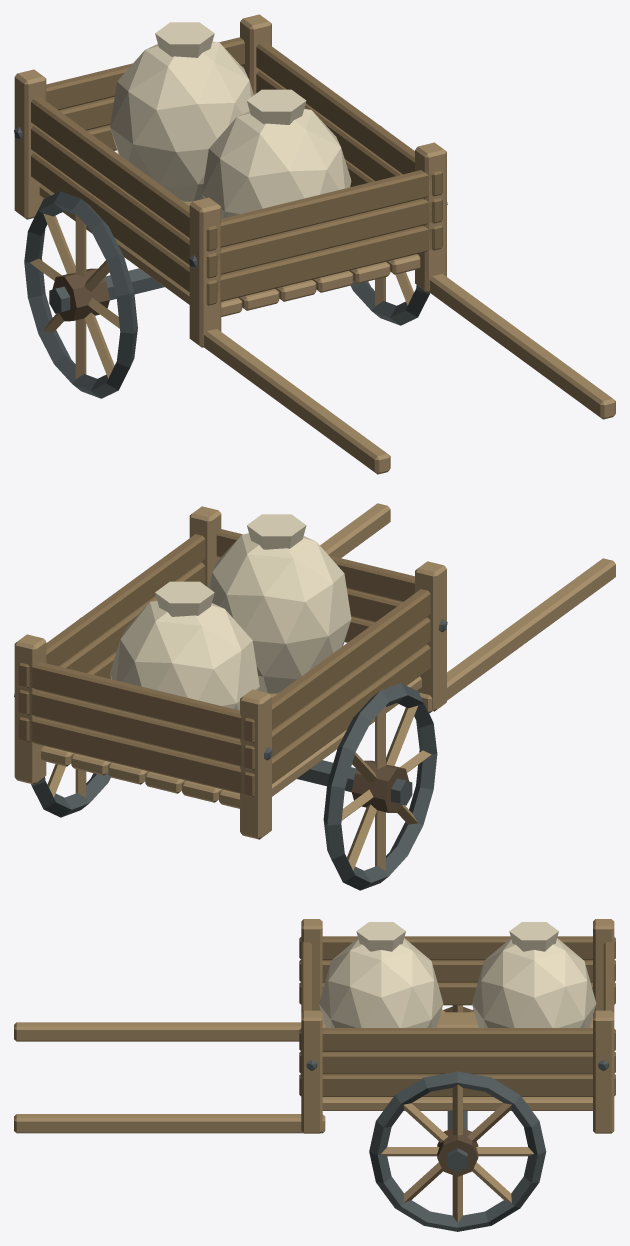
File: handcart.glb
3 renders of one model, top to bottom at view 1: azimuth 30°, elevation 25°; view 2: azimuth 150°, elevation 25°; view 3: azimuth 270°, elevation 25°, orthographic. The views are drawn at different scales.
Visible parts, largest first — view 1: Static_mesh, Wheel_L_mesh, Wheel_R_mesh; view 2: Static_mesh, Wheel_L_mesh, Wheel_R_mesh; view 3: Static_mesh, Wheel_R_mesh.
Boxes of the visible parts, bbox=[...] form: Static_mesh: bbox=[14, 14, 615, 474]; Wheel_L_mesh: bbox=[24, 191, 137, 398]; Wheel_R_mesh: bbox=[351, 126, 429, 325]; Static_mesh: bbox=[14, 503, 615, 839]; Wheel_L_mesh: bbox=[323, 683, 437, 890]; Wheel_R_mesh: bbox=[31, 764, 110, 817]; Static_mesh: bbox=[14, 919, 615, 1172]; Wheel_R_mesh: bbox=[369, 1071, 546, 1231].
Bounding box in the file's own units: 1.9 × 1.49 × 3.38.
